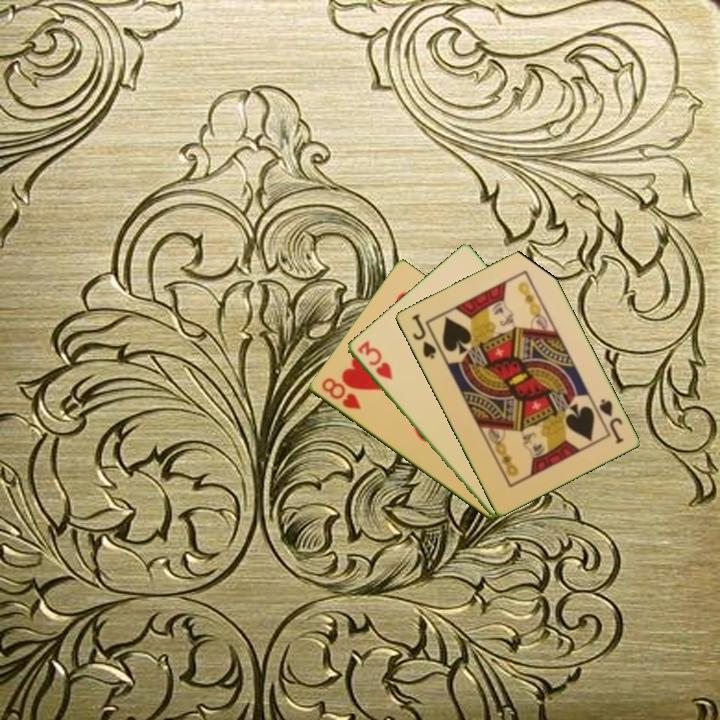3h: (354, 337, 395, 383)
8h: (318, 374, 363, 413)
Js: (408, 310, 439, 362), (595, 395, 626, 447)
